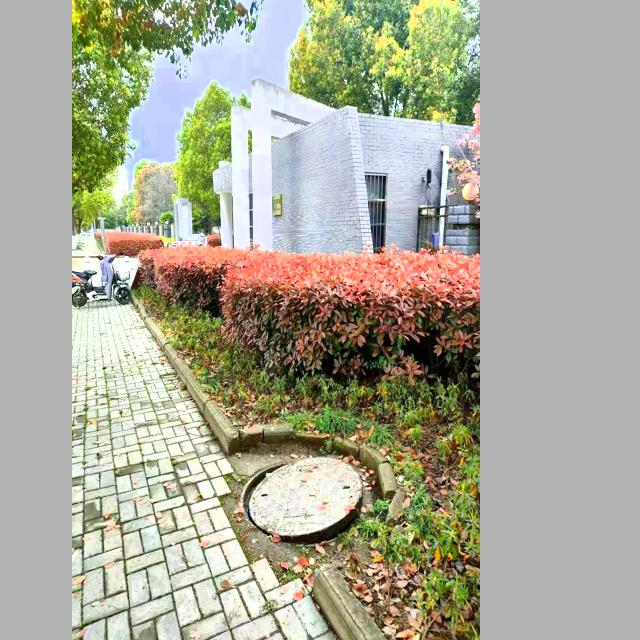uncovered: (240, 455, 365, 548)
